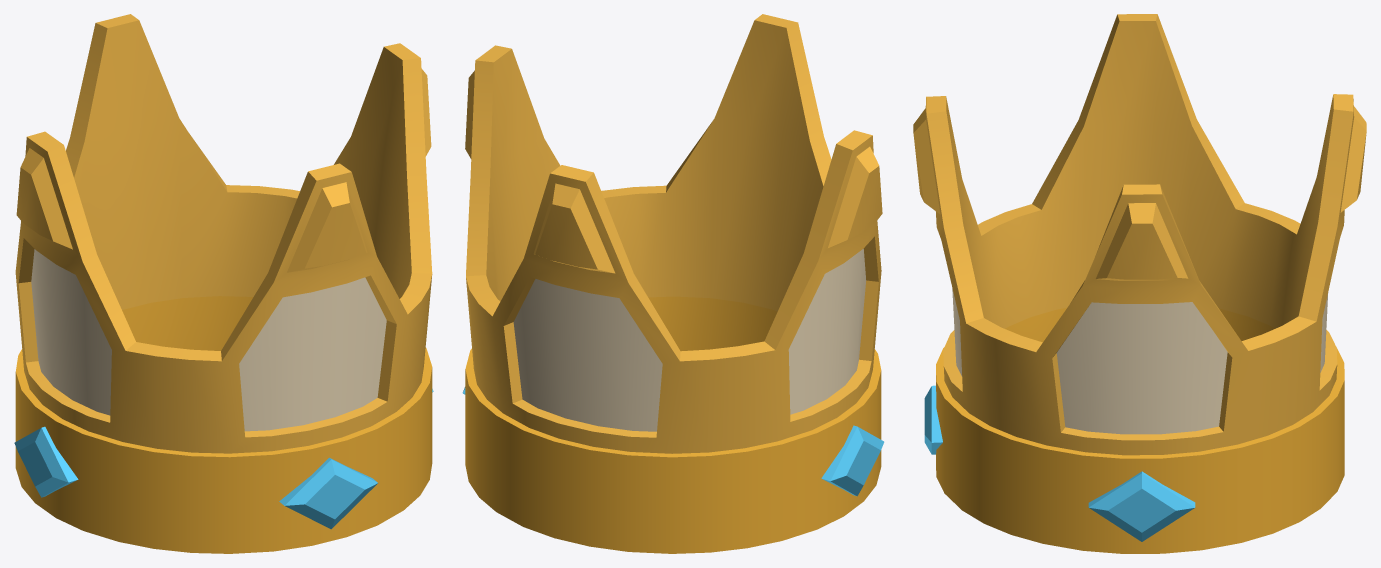
Rendered from Crown C Multi.fbx.
3 renders of one model, left to right at view 1: azimuth 30°, elevation 25°; view 2: azimuth 150°, elevation 25°; view 3: azimuth 270°, elevation 25°, orthographic.
Parts seen in each view (by area): view 1: Crown C; view 2: Crown C; view 3: Crown C.
Part boxes in pixels (left/top/right/bottom): Crown C: left=14, top=14, right=433, bottom=553; Crown C: left=462, top=14, right=884, bottom=553; Crown C: left=913, top=14, right=1366, bottom=553.
Size of the model in its own units: 0.5775 by 0.5125 by 0.5775.
